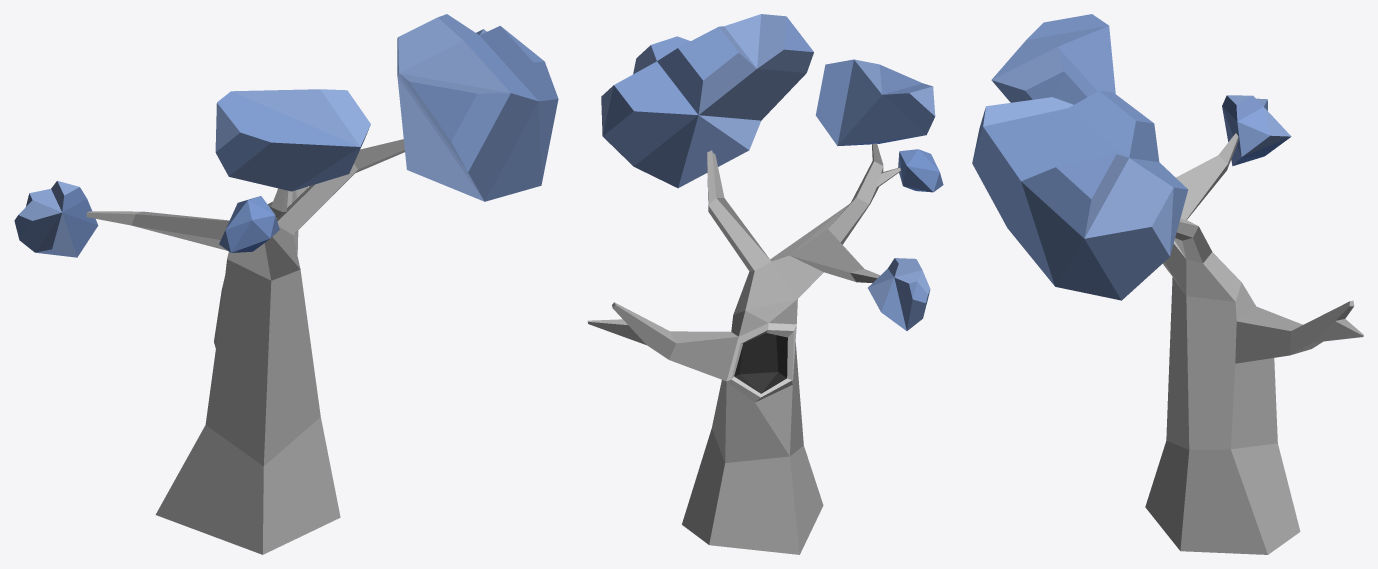
The model's file is TreeWinter1_Alt4.fbx.
The picture shows the model from 3 angles, left to right: view 1: azimuth 30°, elevation 25°; view 2: azimuth 150°, elevation 25°; view 3: azimuth 270°, elevation 25°; orthographic projection. The views are drawn at different scales.
Parts seen in each view (by area): view 1: TreeWinter1_Alt4; view 2: TreeWinter1_Alt4; view 3: TreeWinter1_Alt4.
Boxes of the visible parts, x1=… form: TreeWinter1_Alt4: x1=14, y1=14, x2=558, y2=554; TreeWinter1_Alt4: x1=587, y1=14, x2=943, y2=554; TreeWinter1_Alt4: x1=972, y1=14, x2=1363, y2=554.
Bounding box in the file's own units: 1.78 × 1.96 × 1.44.
